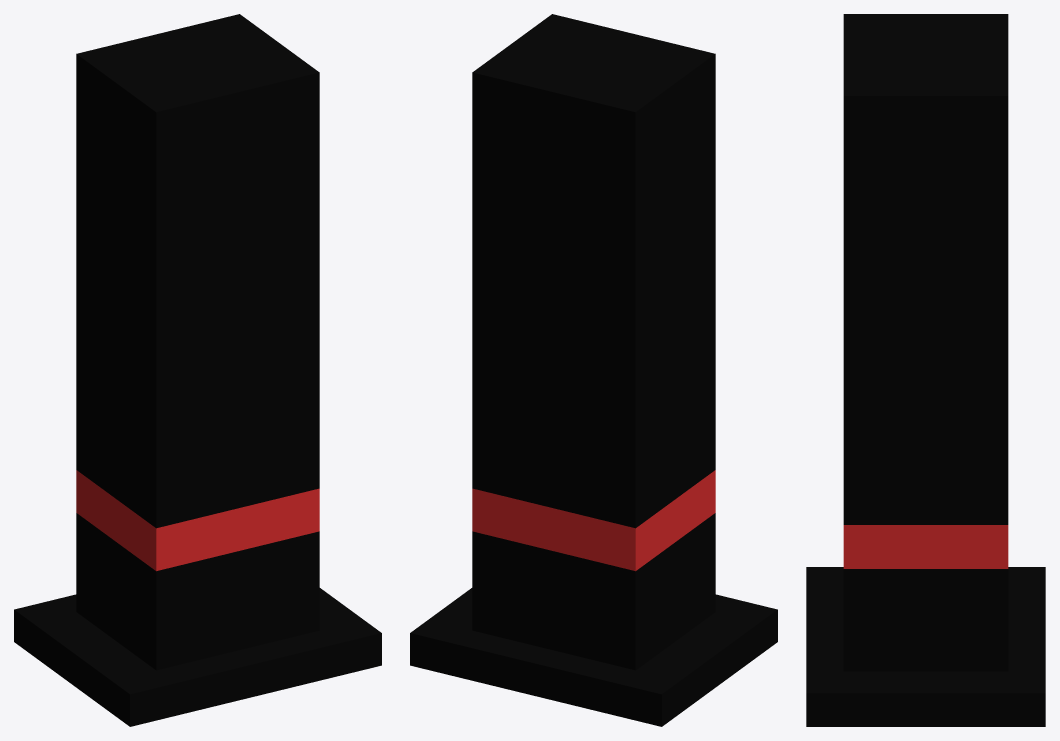
The model's file is hat3.fbx.
The picture shows the model from 3 angles, left to right: view 1: azimuth 30°, elevation 25°; view 2: azimuth 150°, elevation 25°; view 3: azimuth 270°, elevation 25°; orthographic projection. The views are drawn at different scales.
Parts seen in each view (by area): view 1: Hat3; view 2: Hat3; view 3: Hat3.
Boxes of the visible parts, left/top/right/bottom form: Hat3: left=14, top=14, right=381, bottom=726; Hat3: left=410, top=14, right=777, bottom=726; Hat3: left=806, top=14, right=1045, bottom=726.
Size of the model in its own units: 364 by 816 by 290.
